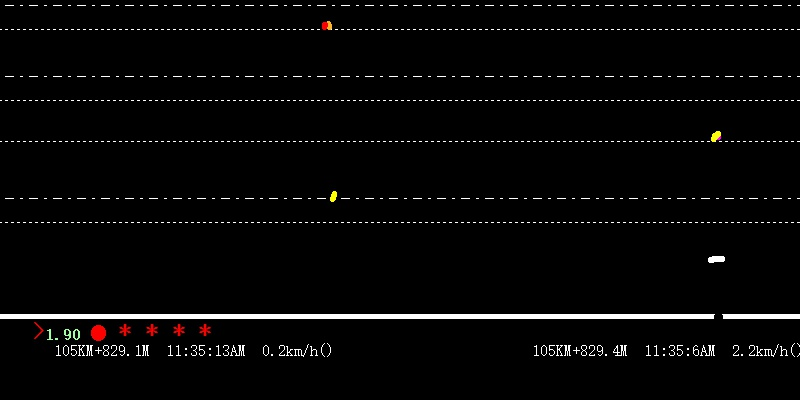circle: (88, 323, 105, 342)
face_2: (319, 18, 333, 34)
star: (116, 320, 132, 341), (197, 320, 213, 338), (143, 320, 158, 339), (172, 321, 184, 336)
